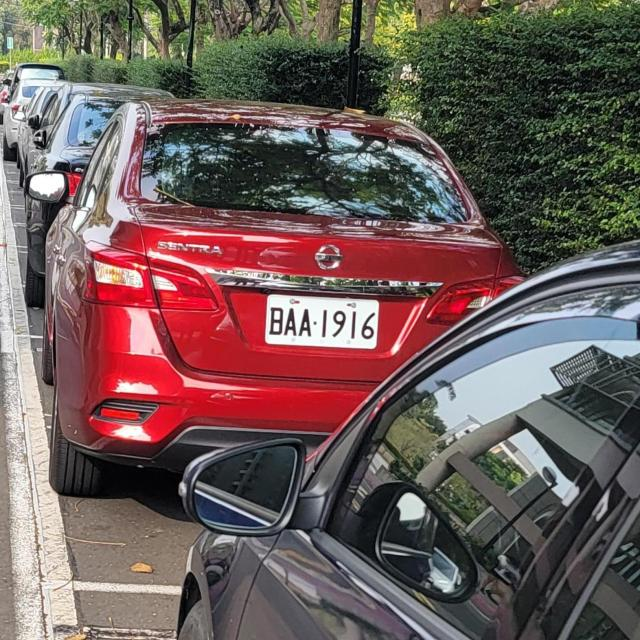W: (262, 292, 380, 351)
